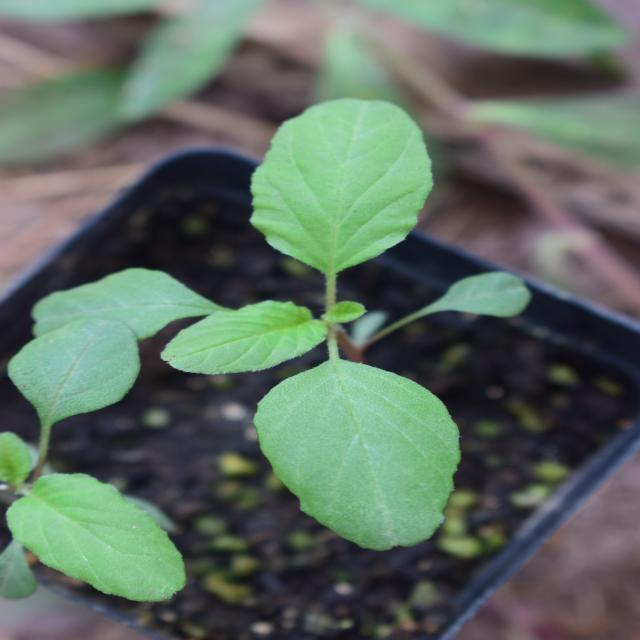pigweed: (86, 196, 548, 470)
